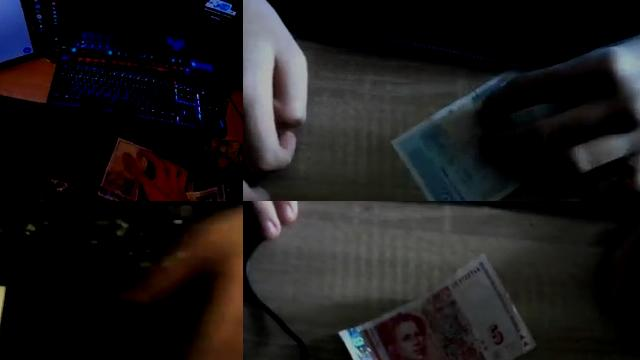20leva: (390, 72, 537, 201)
50leva: (97, 139, 188, 201)
5leva: (337, 255, 536, 360)
